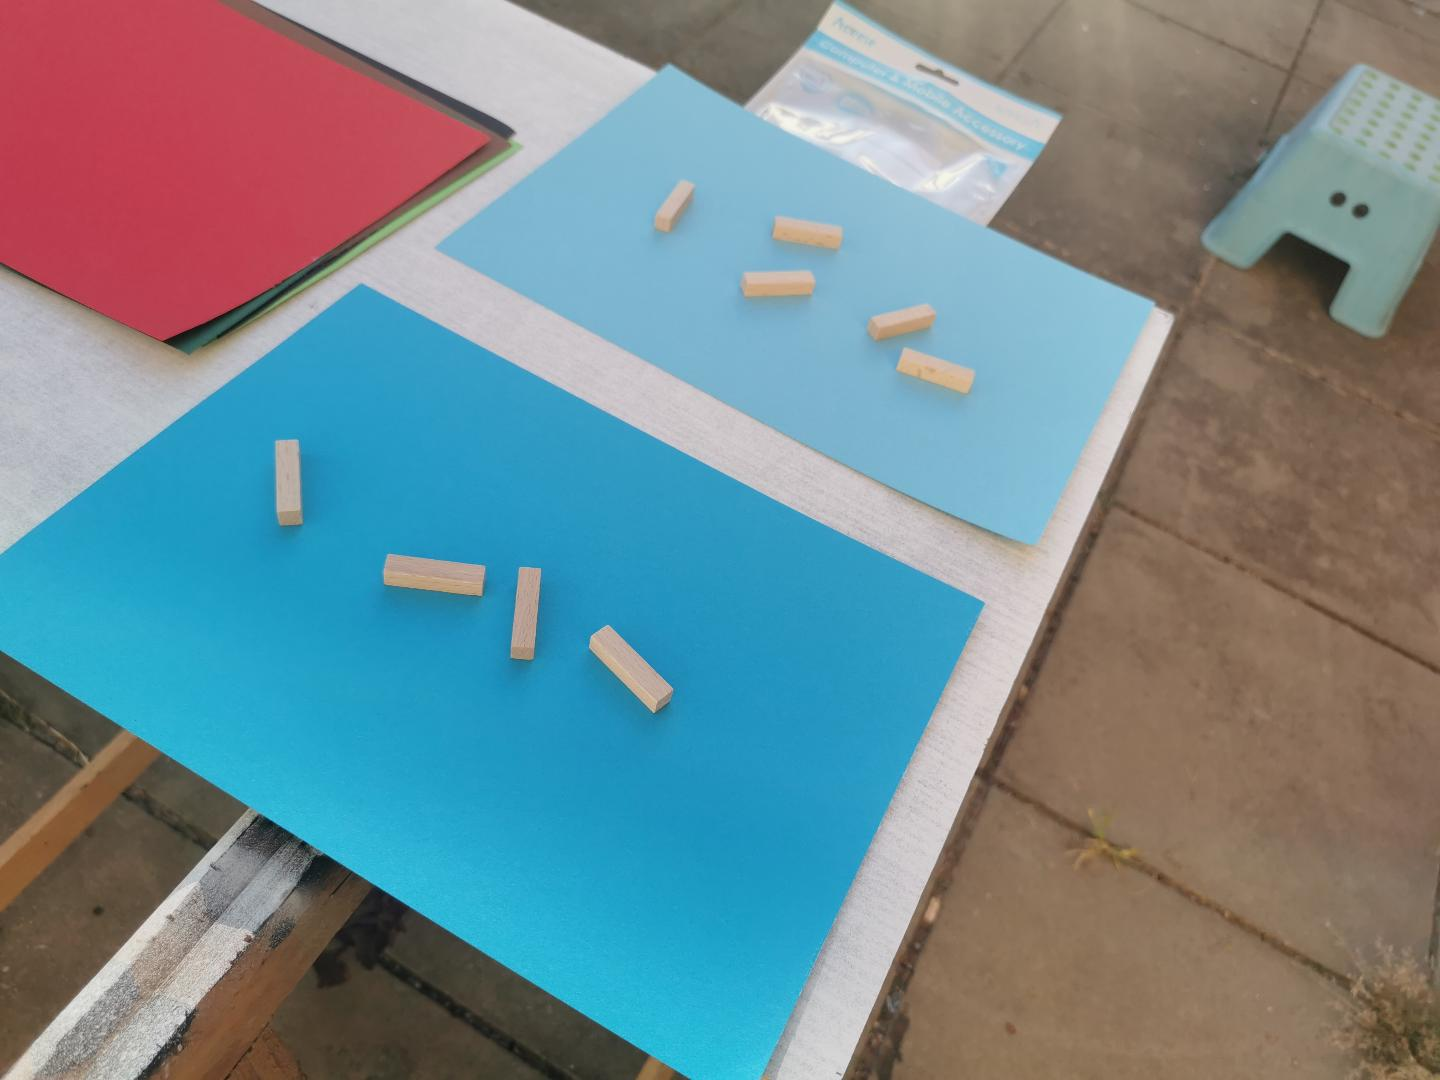jenga: (591, 624, 672, 711), (382, 554, 486, 597), (897, 348, 976, 394), (509, 568, 540, 661), (866, 304, 937, 340), (276, 439, 304, 526), (773, 217, 844, 251), (655, 180, 695, 234), (743, 270, 815, 295)
